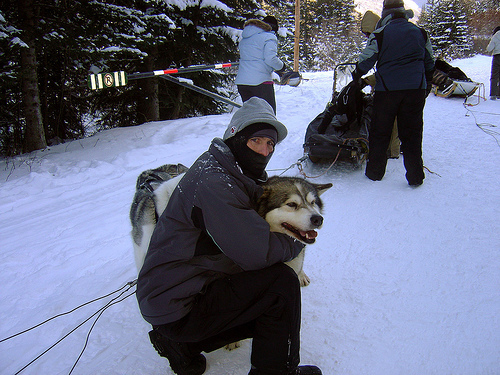dog: (129, 162, 335, 290)
